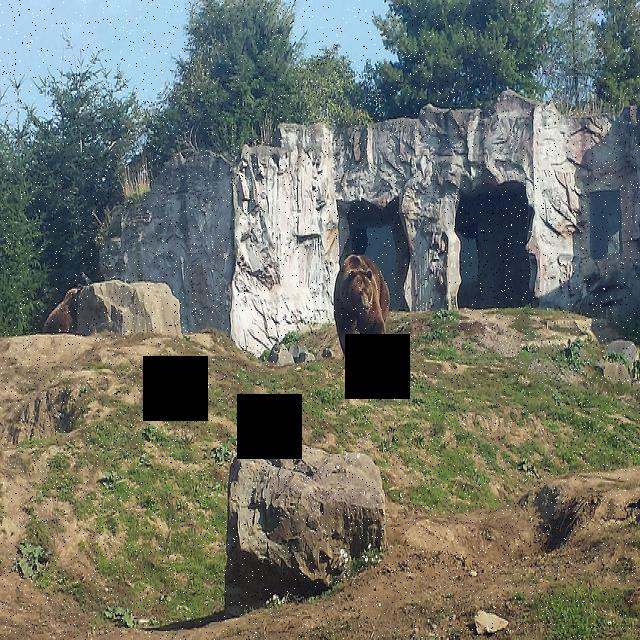Bear: (331, 250, 395, 354)
